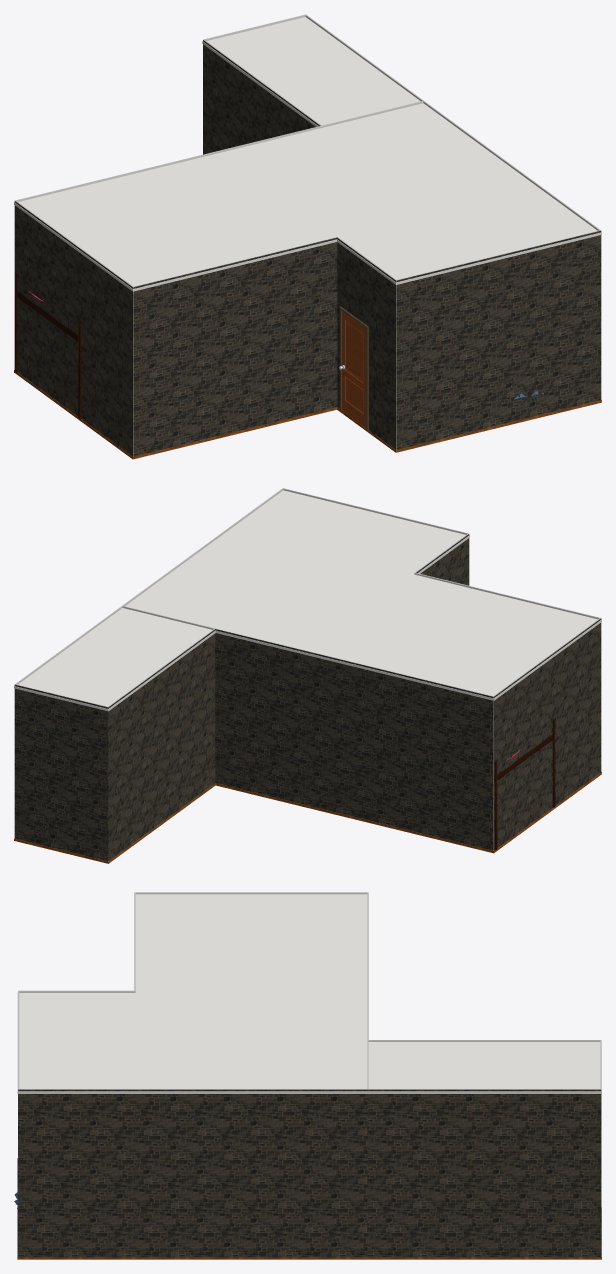
Rendered from ProcTHOR-Train-68.glb.
3 renders of one model, top to bottom at view 1: azimuth 30°, elevation 25°; view 2: azimuth 150°, elevation 25°; view 3: azimuth 270°, elevation 25°, orthographic. The views are drawn at different scales.
Visible parts, largest first — view 1: Ceiling#room|2|c, WallInside#wall|exterior|0.00|10.87|4.35|10.87, WallInside#wall|exterior|4.35|8.70|8.70|8.70, WallInside#wall|exterior|8.70|4.35|8.70|8.70, Ceiling#room|3|c, WallInside#wall|exterior|4.35|8.70|4.35|10.87, WallInside#wall|exterior|2.17|0.00|2.17|4.35, Doorway_4, Floor#room|2|f, Bed_18_1, WallInside#wall|2|2.17|4.35|8.70|4.35; view 2: Ceiling#room|2|c, WallInside#wall|exterior|2.17|4.35|8.70|4.35, WallInside#wall|exterior|2.17|0.00|2.17|4.35, WallInside#wall|exterior|8.70|4.35|8.70|8.70, WallInside#wall|exterior|0.00|0.00|2.17|0.00, Ceiling#room|3|c, WallInside#wall|exterior|4.35|8.70|4.35|10.87, Floor#room|2|f, Bed_18_1, Floor#room|3|f; view 3: WallInside#wall|exterior|0.00|4.35|0.00|10.87, Ceiling#room|2|c, WallInside#wall|exterior|0.00|0.00|0.00|4.35, Ceiling#room|3|c, Floor#room|2|f, Floor#room|3|f, WallInside#wall|2|8.70|4.35|8.70|8.70.
Boxes of the visible parts, <box> form: Ceiling#room|2|c: <box>14,103,601,291</box>; WallInside#wall|exterior|0.00|10.87|4.35|10.87: <box>396,230,601,449</box>; WallInside#wall|exterior|4.35|8.70|8.70|8.70: <box>133,237,337,456</box>; WallInside#wall|exterior|8.70|4.35|8.70|8.70: <box>14,201,132,456</box>; Ceiling#room|3|c: <box>202,17,422,126</box>; WallInside#wall|exterior|4.35|8.70|4.35|10.87: <box>337,237,395,449</box>; WallInside#wall|exterior|2.17|0.00|2.17|4.35: <box>203,40,320,154</box>; Doorway_4: <box>339,306,368,429</box>; Floor#room|2|f: <box>14,370,601,459</box>; Bed_18_1: <box>14,274,81,418</box>; WallInside#wall|2|2.17|4.35|8.70|4.35: <box>15,126,321,201</box>; Ceiling#room|2|c: <box>125,490,601,700</box>; WallInside#wall|exterior|2.17|4.35|8.70|4.35: <box>215,628,493,850</box>; WallInside#wall|exterior|2.17|0.00|2.17|4.35: <box>108,628,215,860</box>; WallInside#wall|exterior|8.70|4.35|8.70|8.70: <box>493,618,601,850</box>; WallInside#wall|exterior|0.00|0.00|2.17|0.00: <box>14,684,108,861</box>; Ceiling#room|3|c: <box>14,608,215,711</box>; WallInside#wall|exterior|4.35|8.70|4.35|10.87: <box>415,534,469,585</box>; Floor#room|2|f: <box>215,772,601,853</box>; Bed_18_1: <box>494,719,555,850</box>; Floor#room|3|f: <box>14,783,215,863</box>; WallInside#wall|exterior|0.00|4.35|0.00|10.87: <box>18,1089,368,1257</box>; Ceiling#room|2|c: <box>17,894,368,1093</box>; WallInside#wall|exterior|0.00|0.00|0.00|4.35: <box>367,1089,601,1257</box>; Ceiling#room|3|c: <box>367,1041,601,1093</box>; Floor#room|2|f: <box>17,1158,368,1259</box>; Floor#room|3|f: <box>367,1207,601,1259</box>; WallInside#wall|2|8.70|4.35|8.70|8.70: <box>135,892,367,894</box>.
Bounding box in the file's own units: 8.76 × 3.5 × 10.97.
126 materials, 55 textured.
